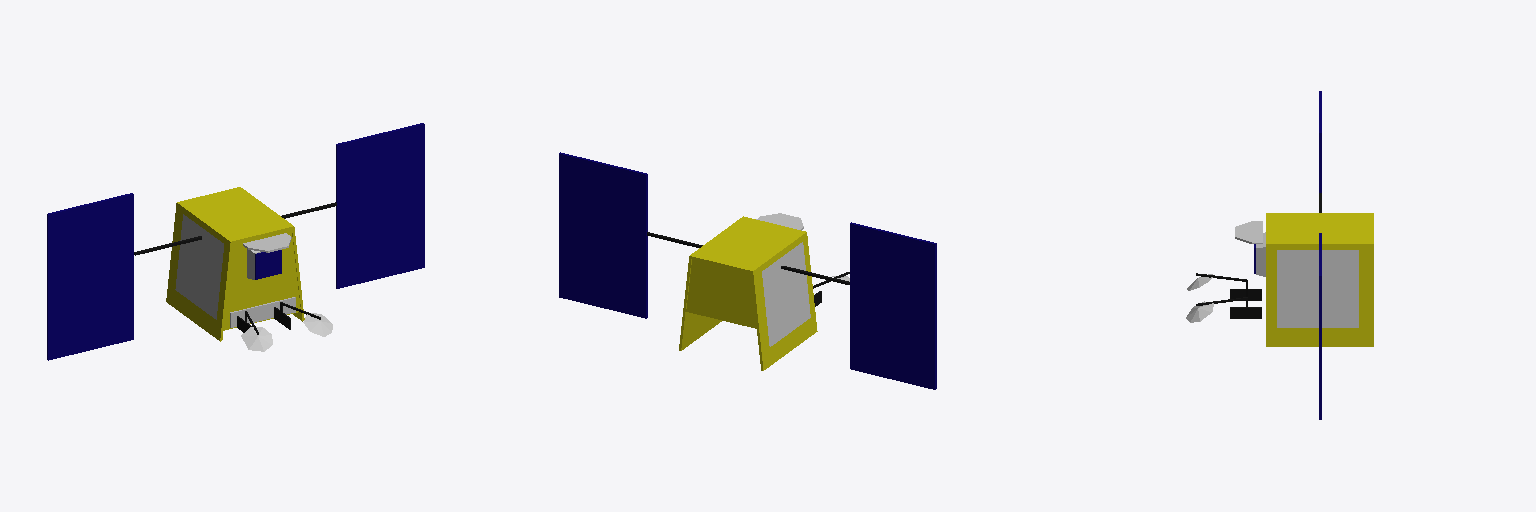
Rendered from oneweb.obj.
The picture shows the model from 3 angles: view 1: azimuth 30°, elevation 25°; view 2: azimuth 150°, elevation 25°; view 3: azimuth 270°, elevation 25°; orthographic projection.
Parts seen in each view (by area): view 1: Cube.024_Cube.239, Cube.175_Cube.193, Cube, Cube.016_Cube.033, Cube.001_Cube.002, Cube.008_Cube.022, Cube.004_Cube.005, Cube.019_Cube.001, Cone.001; view 2: Cube.024_Cube.239, Cube.175_Cube.193, Cube, Cube.002_Cube.003, Cube.016_Cube.033; view 3: Cube, Cube.013_Cube.030, Cube.024_Cube.239, Cube.019_Cube.001.
Part boxes in pixels (bbox=[...]): Cube.024_Cube.239: bbox=[336, 123, 424, 288]; Cube.175_Cube.193: bbox=[47, 193, 133, 360]; Cube: bbox=[166, 187, 304, 341]; Cube.016_Cube.033: bbox=[175, 214, 223, 319]; Cube.001_Cube.002: bbox=[224, 229, 300, 330]; Cube.008_Cube.022: bbox=[230, 297, 295, 327]; Cube.004_Cube.005: bbox=[255, 250, 281, 279]; Cube.019_Cube.001: bbox=[243, 233, 291, 252]; Cone.001: bbox=[241, 327, 272, 351]; Cube.024_Cube.239: bbox=[559, 152, 647, 318]; Cube.175_Cube.193: bbox=[850, 222, 936, 389]; Cube: bbox=[679, 216, 817, 370]; Cube.002_Cube.003: bbox=[686, 259, 756, 328]; Cube.016_Cube.033: bbox=[762, 242, 810, 346]; Cube: bbox=[1266, 213, 1373, 346]; Cube.013_Cube.030: bbox=[1277, 250, 1358, 327]; Cube.024_Cube.239: bbox=[1319, 233, 1321, 419]; Cube.019_Cube.001: bbox=[1235, 221, 1262, 243].
Bounding box in the file's own units: 8.06 × 2.98 × 3.5.